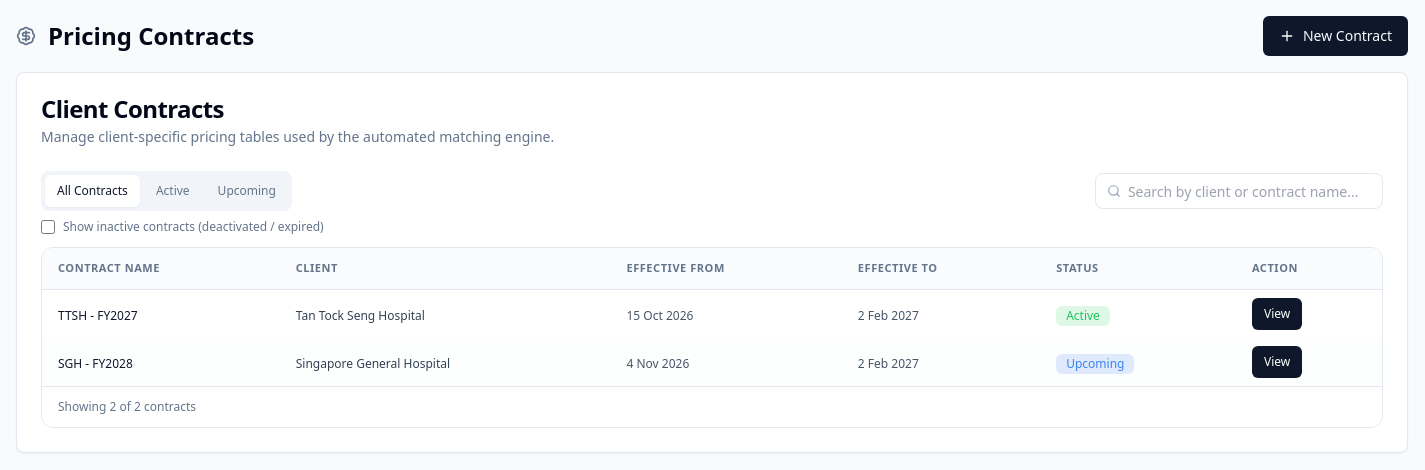
PricingContractPage - list and filter (GET /api/contracts) › the Upcoming filter tab shows only upcoming contracts
Expected: the text "TTSH - FY2027" is shown, [58,306,138,324]
What coordinates should you click on to do the following:
click the button "Upcoming"
I would click on:
 (247, 191)
Its box is [206,175,288,207].
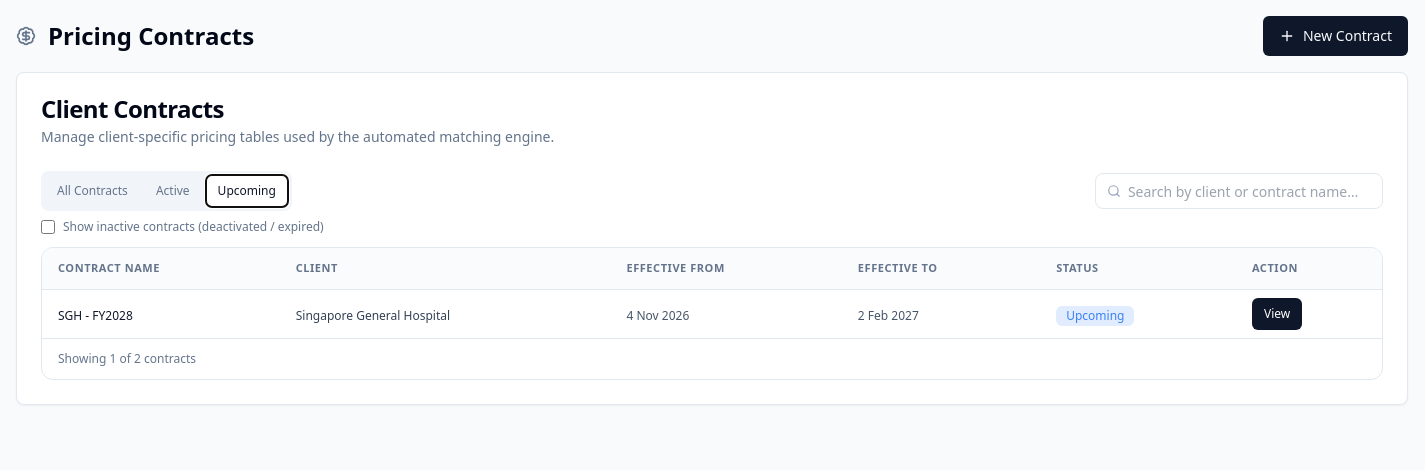
Expected: the text "SGH - FY2028" is shown, [58,306,133,324]
Now the text "TTSH - FY2027" is gone
